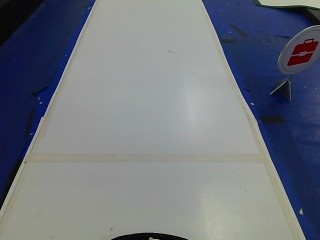company: (275, 26, 318, 72)
